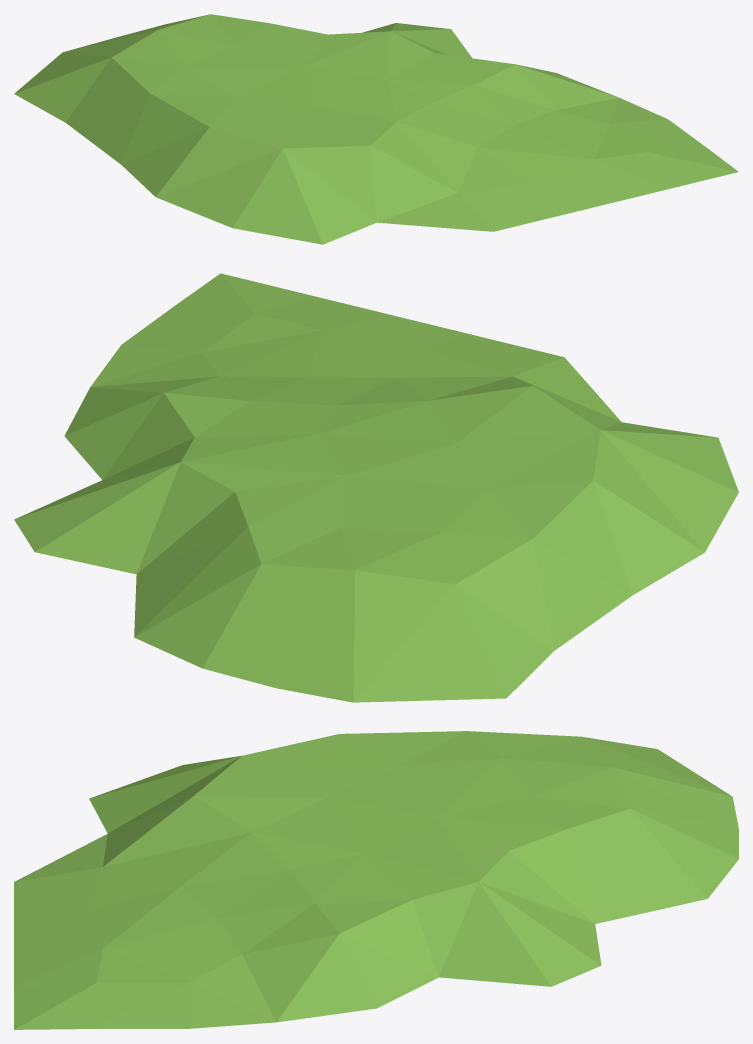
The model's file is MT_Mountain_S_c_08.fbx.
3 renders of one model, top to bottom at view 1: azimuth 30°, elevation 25°; view 2: azimuth 150°, elevation 25°; view 3: azimuth 270°, elevation 25°, orthographic. The views are drawn at different scales.
Visible parts, largest first — view 1: MT_Mountain_S_c_08; view 2: MT_Mountain_S_c_08; view 3: MT_Mountain_S_c_08.
Part boxes in pixels (x1,y1,x2,y2): MT_Mountain_S_c_08: (14, 14, 738, 244); MT_Mountain_S_c_08: (14, 273, 738, 702); MT_Mountain_S_c_08: (14, 731, 738, 1029).
Size of the model in its own units: 2135 by 214 by 2336.
